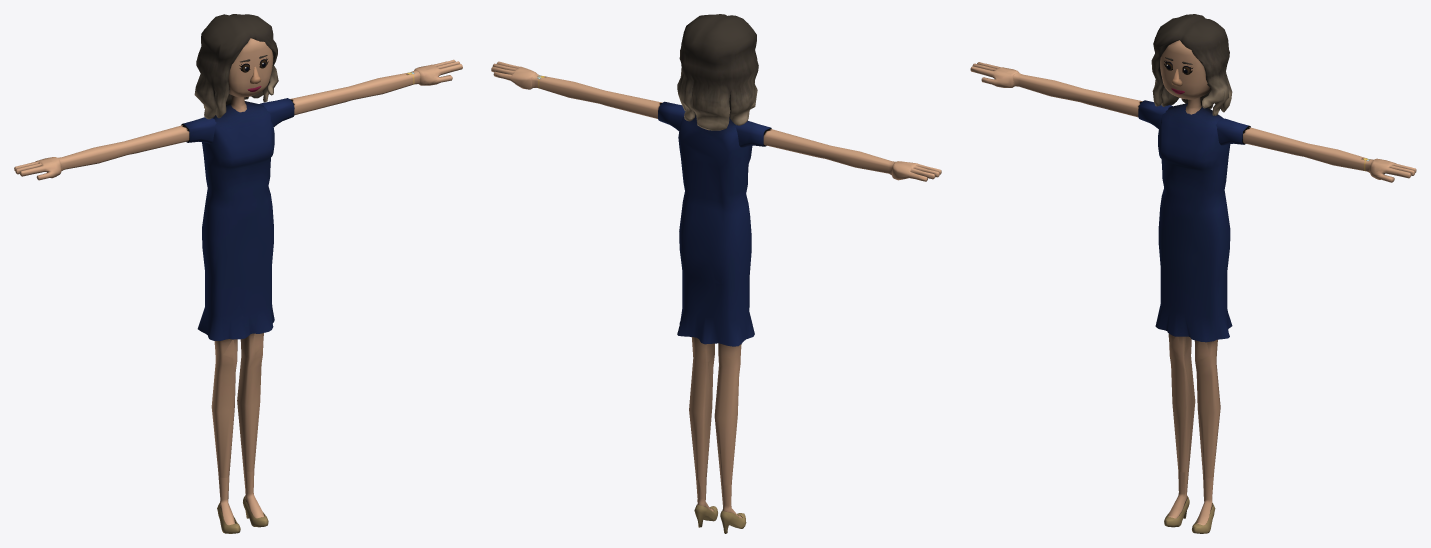
File: viv2.obj
The picture shows the model from 3 angles, left to right: view 1: azimuth 30°, elevation 25°; view 2: azimuth 150°, elevation 25°; view 3: azimuth 330°, elevation 25°; orthographic projection.
Visible parts, largest first — view 1: BodyWhole_WholeArms; view 2: BodyWhole_WholeArms; view 3: BodyWhole_WholeArms.
Boxes of the visible parts, x1=… form: BodyWhole_WholeArms: x1=14, y1=14, x2=462, y2=533; BodyWhole_WholeArms: x1=491, y1=14, x2=941, y2=533; BodyWhole_WholeArms: x1=970, y1=14, x2=1416, y2=533.
Size of the model in its own units: 0.1721 by 0.1875 by 0.025.
Materials: 1 (1 with a texture image).
